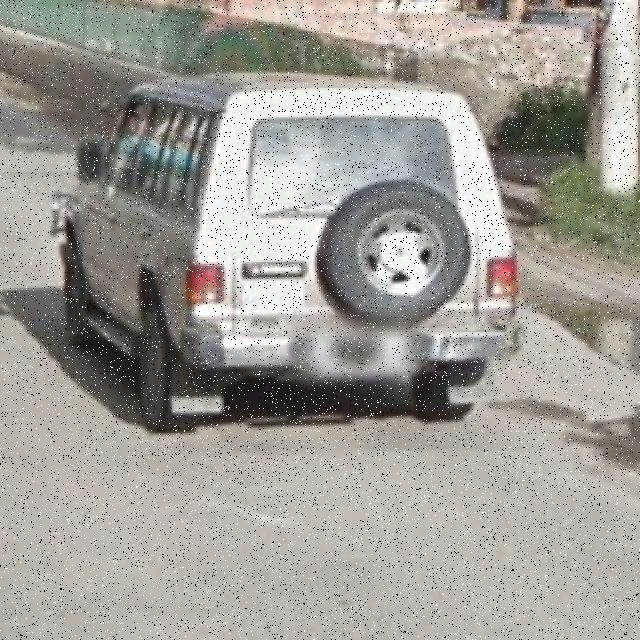cars: (48, 76, 526, 434)
